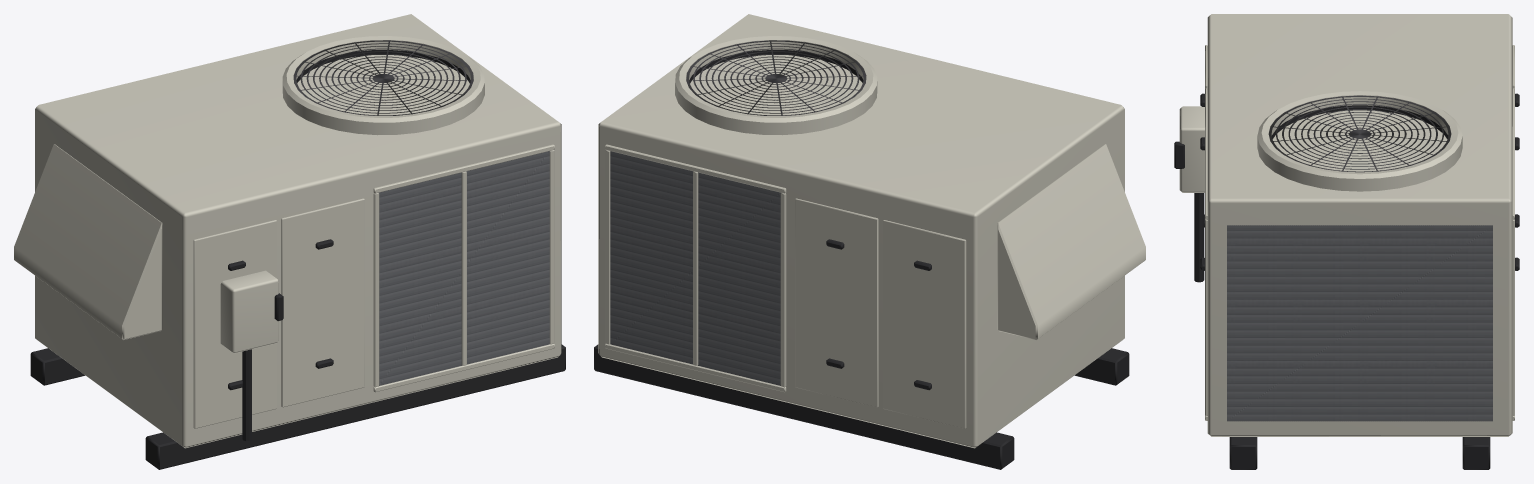
The model's file is ac_unit.glb.
3 views of the same model, side by side, from view 1: azimuth 30°, elevation 25°; view 2: azimuth 150°, elevation 25°; view 3: azimuth 270°, elevation 25° (orthographic).
Visible parts, largest first — view 1: ac_unit; view 2: ac_unit; view 3: ac_unit.
Part boxes in pixels (<box>): ac_unit: <box>14,14,565,469</box>; ac_unit: <box>594,14,1145,469</box>; ac_unit: <box>1174,14,1519,469</box>.
Size of the model in its own units: 1.83 by 1.11 by 1.25.
Materials: 4 (2 with a texture image).
